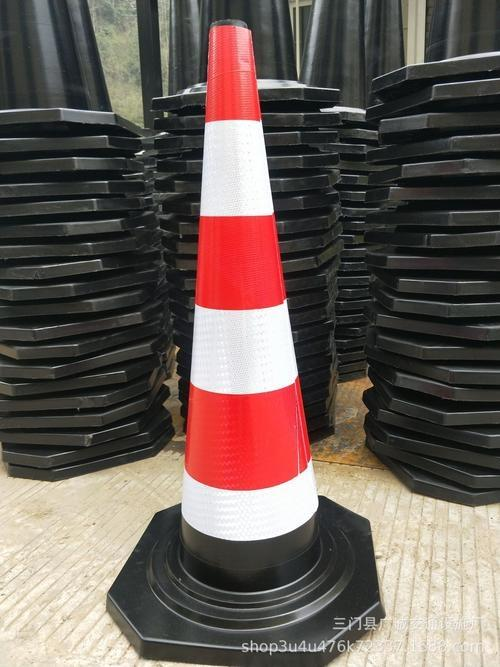cone_barrel: (153, 24, 336, 611)
